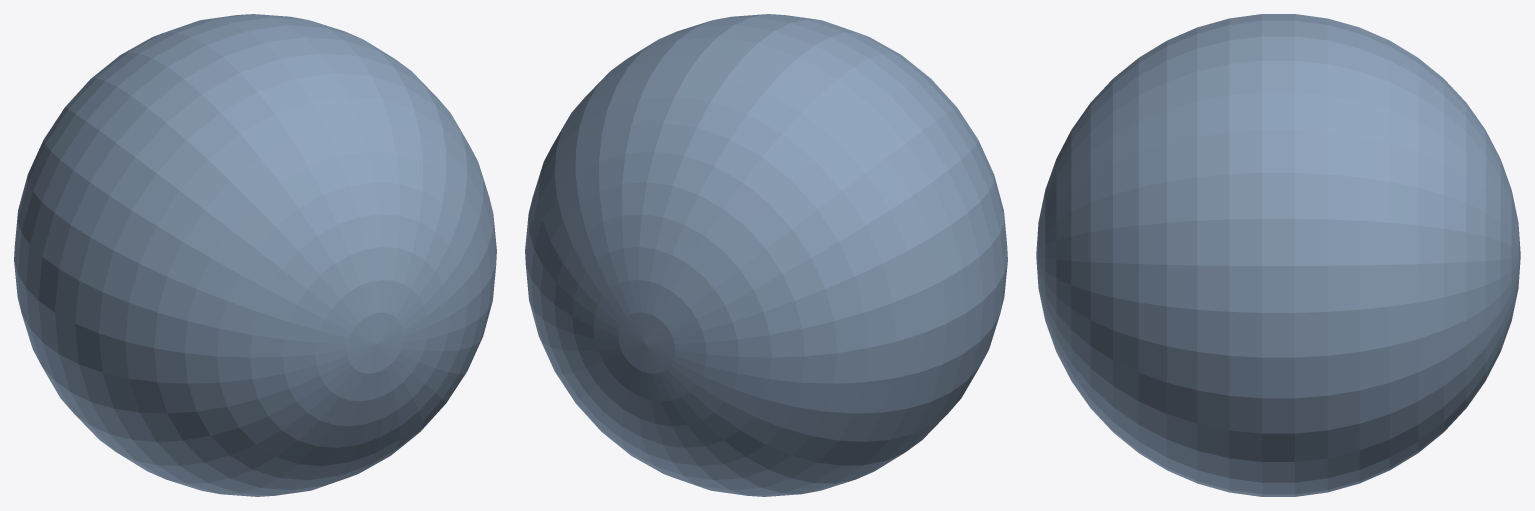
3 renders of one model, left to right at view 1: azimuth 30°, elevation 25°; view 2: azimuth 150°, elevation 25°; view 3: azimuth 270°, elevation 25°, orthographic.
Parts seen in each view (by area): view 1: world; view 2: world; view 3: world.
Part boxes in pixels (x1,y1,x2,y2): world: (14, 14, 496, 496); world: (525, 14, 1007, 496); world: (1036, 14, 1520, 496).
Bounding box in the file's own units: 0.9977 × 0.9977 × 1.
